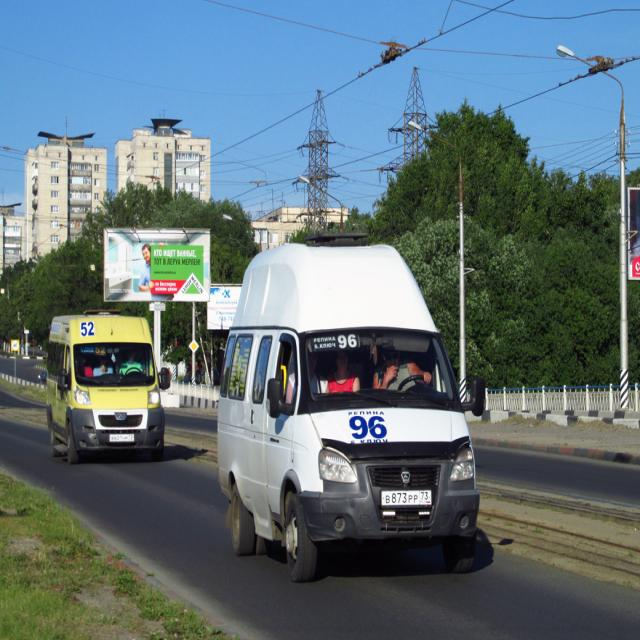number-of-bus: (350, 415, 390, 441), (338, 333, 361, 351)
